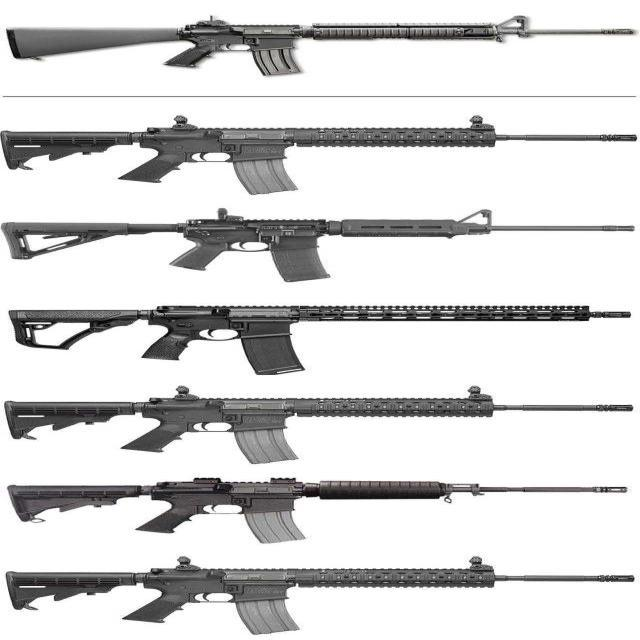weapon: (0, 110, 640, 208), (0, 550, 640, 640), (0, 293, 640, 379), (0, 381, 640, 466), (0, 12, 635, 94), (0, 466, 640, 544), (0, 212, 638, 278)
